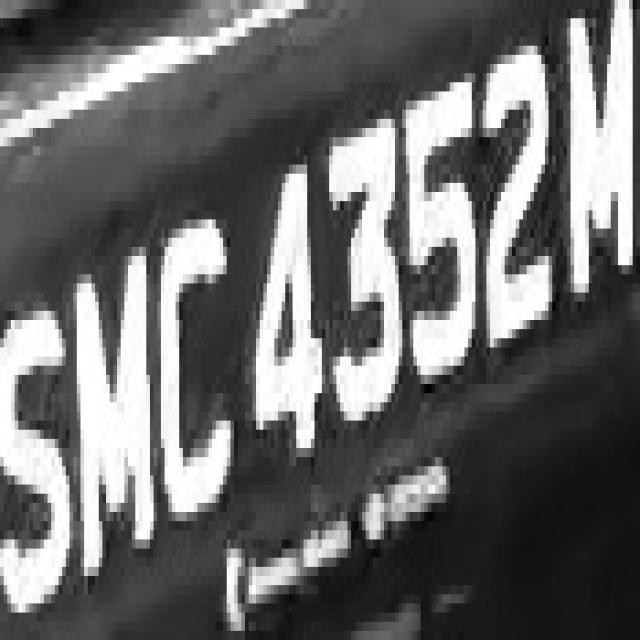2: (476, 28, 552, 393)
3: (329, 91, 406, 466)
4: (238, 146, 333, 494)
5: (398, 55, 486, 402)
C: (157, 192, 245, 539)
M: (66, 256, 161, 594), (559, 27, 640, 310)
S: (7, 256, 77, 622)
